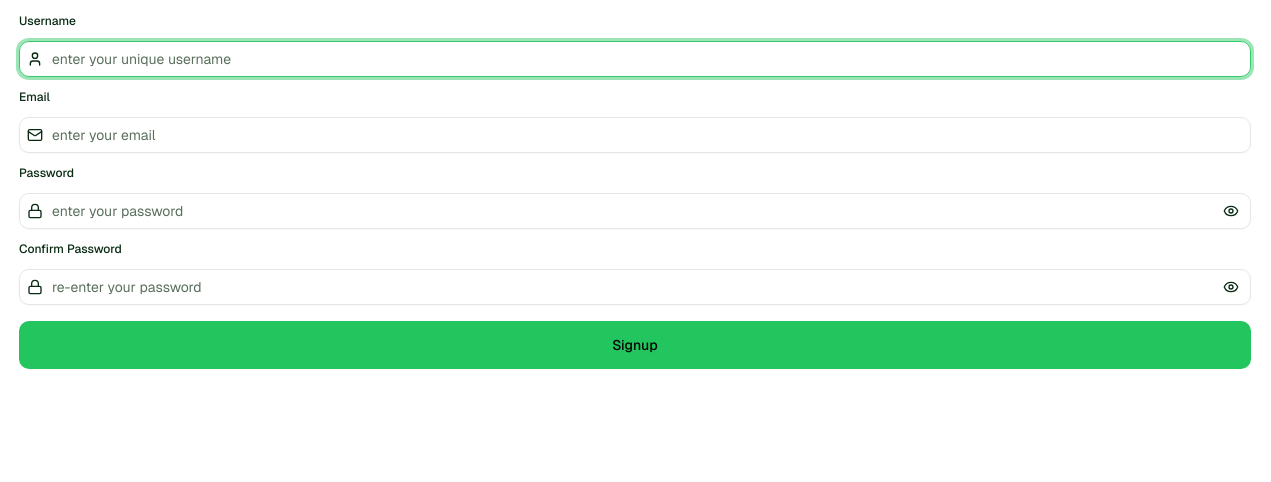
Test: SignupForm › Form Validation › should show confirm password error when passwords do not match
In the password field with test id "signup-password-input": {"x": 635, "y": 211} x1=19 y1=193 x2=1251 y2=229, type "SecurePass1!"
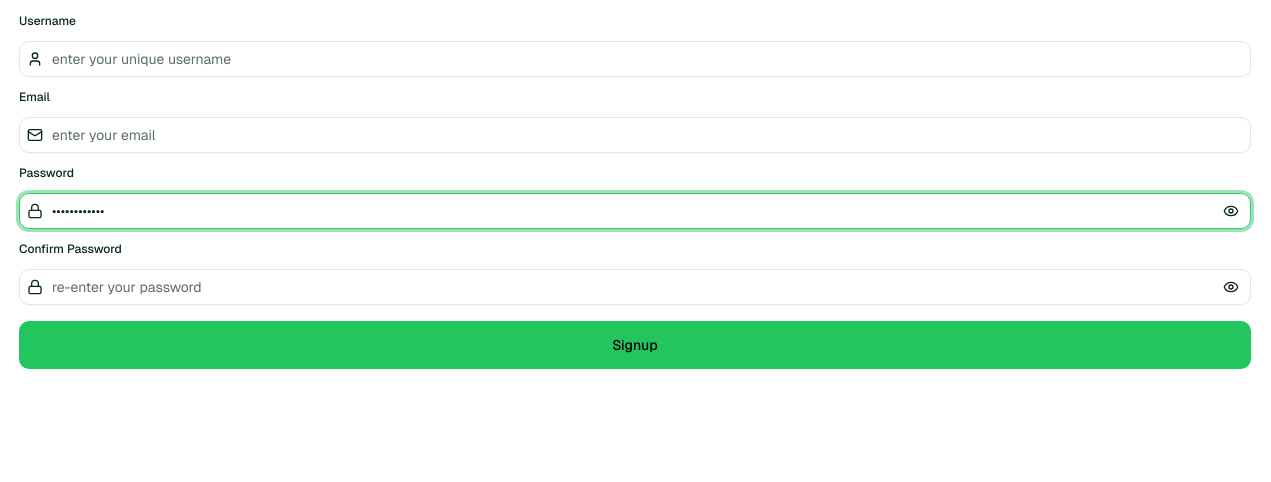
In the password field with test id "signup-confirm-password-input": {"x": 635, "y": 287} x1=19 y1=269 x2=1251 y2=305, type "DifferentPass1!"
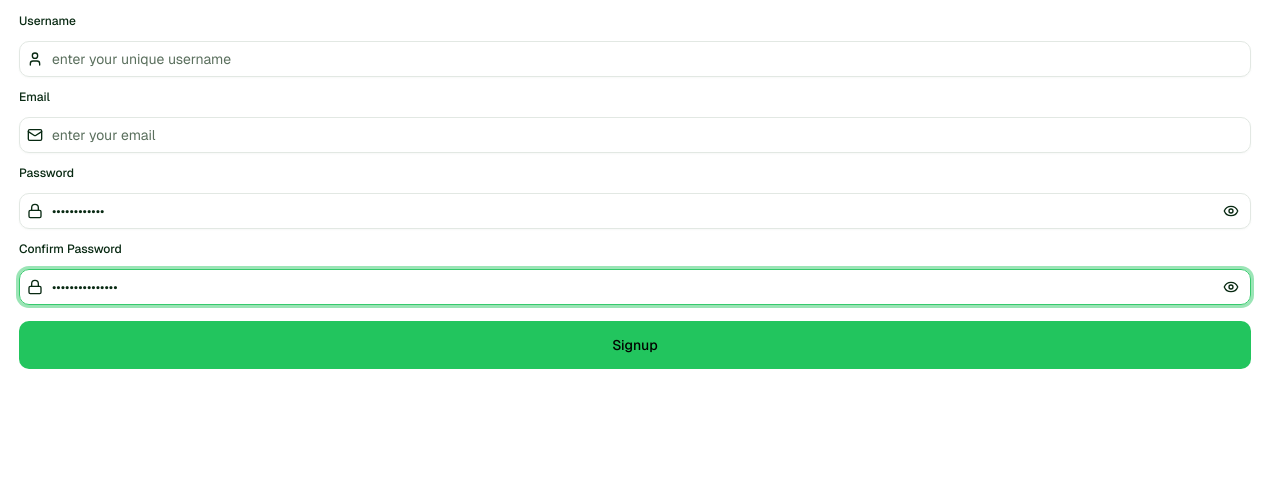
Click the button with test id "signup-submit-button": {"x": 635, "y": 345} x1=19 y1=321 x2=1251 y2=369
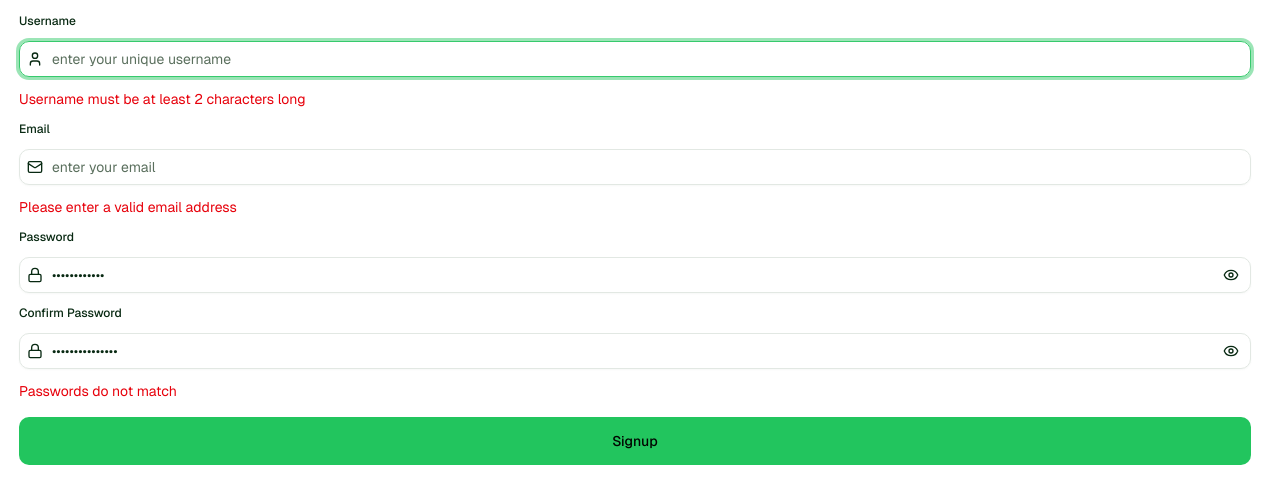
Expected: the message with test id "signup-confirm-password-error" reads "Passwords do not match", x1=19 y1=382 x2=177 y2=400
